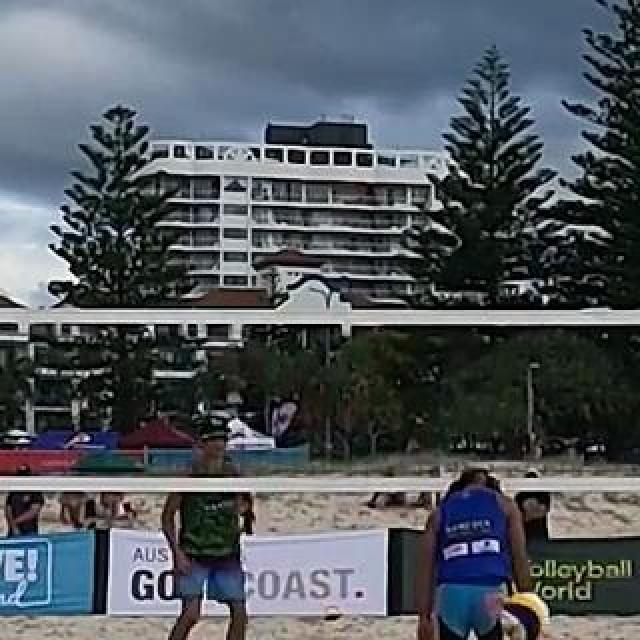volleyball: (500, 590, 548, 640), (320, 601, 342, 623)
